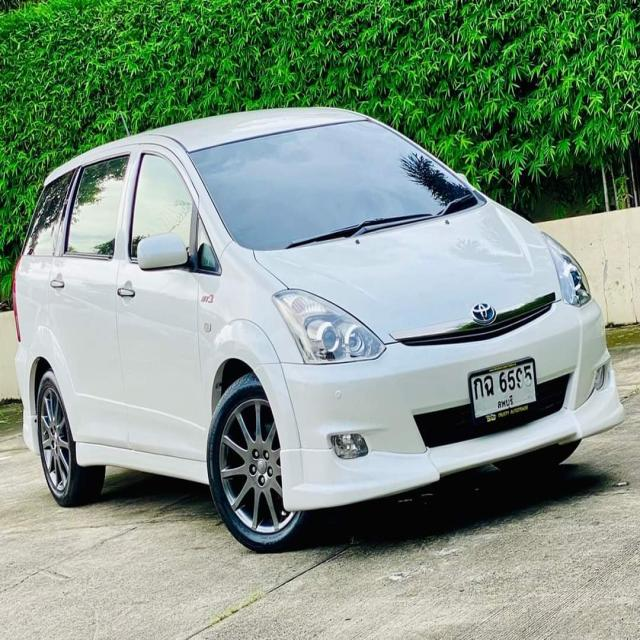license_plate: (462, 353, 543, 429)
